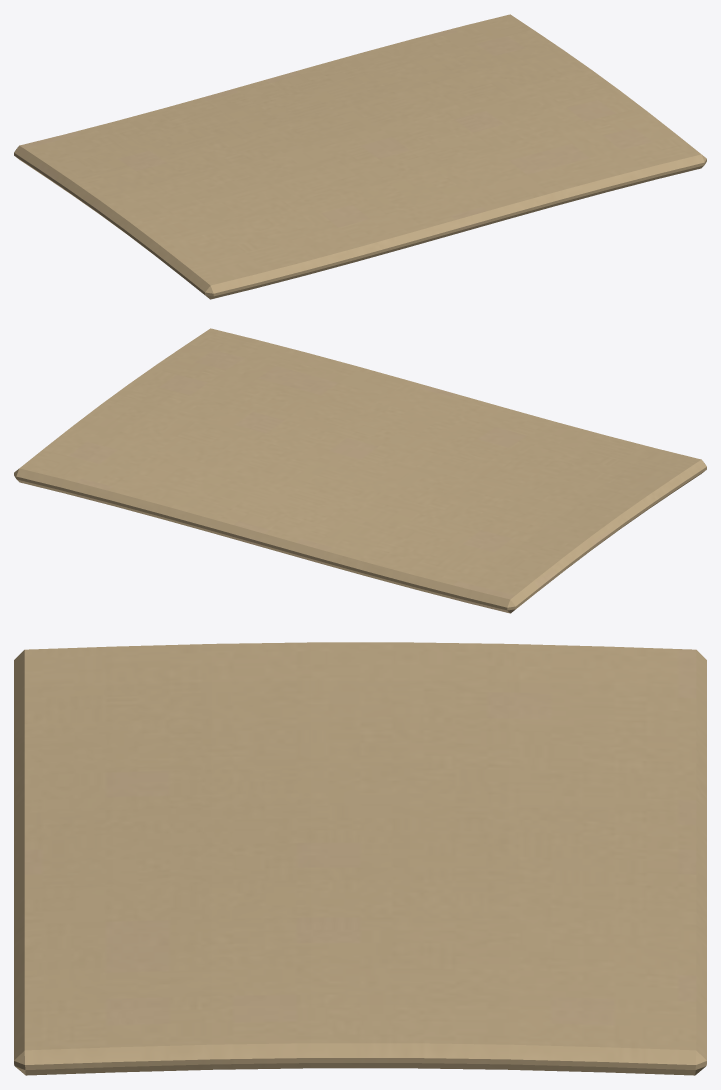
Rendered from p_carpet.glb.
3 renders of one model, top to bottom at view 1: azimuth 30°, elevation 25°; view 2: azimuth 150°, elevation 25°; view 3: azimuth 270°, elevation 25°, orthographic. The views are drawn at different scales.
Parts seen in each view (by area): view 1: carpet; view 2: carpet; view 3: carpet.
Boxes of the visible parts, left/top/right/bottom form: carpet: left=14, top=14, right=706, bottom=299; carpet: left=14, top=328, right=706, bottom=613; carpet: left=14, top=642, right=706, bottom=1075.
Size of the model in its own units: 1.1 by 0.0623 by 0.7491.
Materials: 1 (1 with a texture image).
